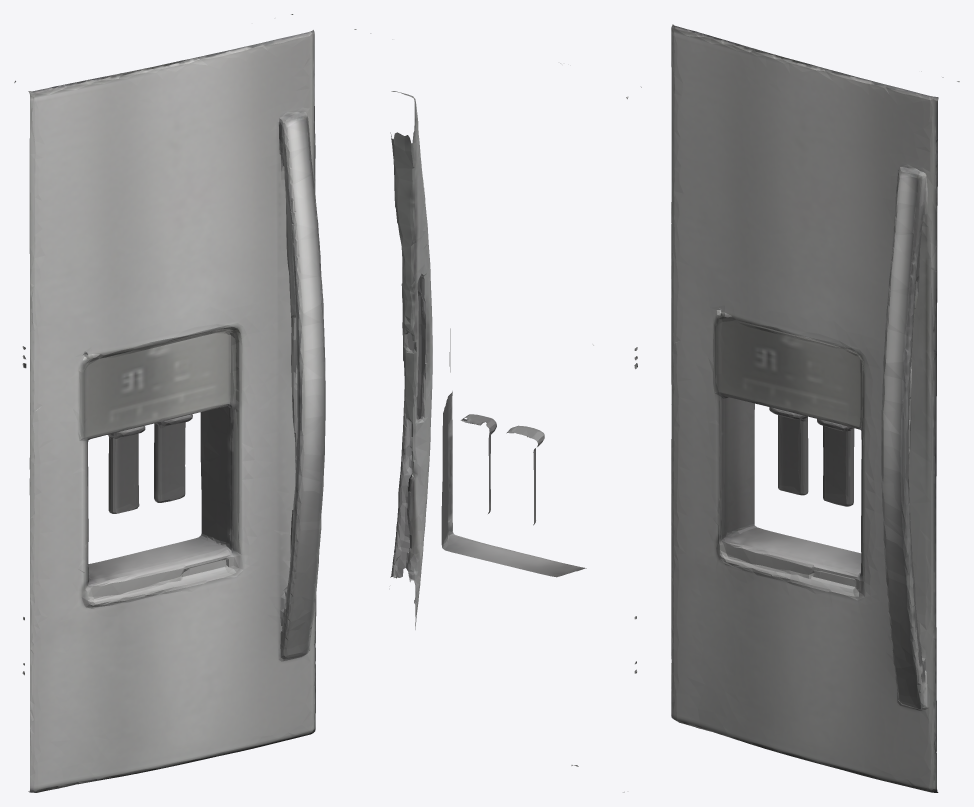
Rendered from door_left.glb.
3 renders of one model, left to right at view 1: azimuth 30°, elevation 25°; view 2: azimuth 150°, elevation 25°; view 3: azimuth 330°, elevation 25°, orthographic.
Parts seen in each view (by area): view 1: source_surface_0; view 2: source_surface_0; view 3: source_surface_0.
Part boxes in pixels (x1,y1,x2,y2): source_surface_0: (14,14,325,792); source_surface_0: (354,29,641,792); source_surface_0: (671,24,959,792).
Bounding box in the file's own units: 0.8438 × 2.05 × 0.2446.
1 material, 1 textured.
